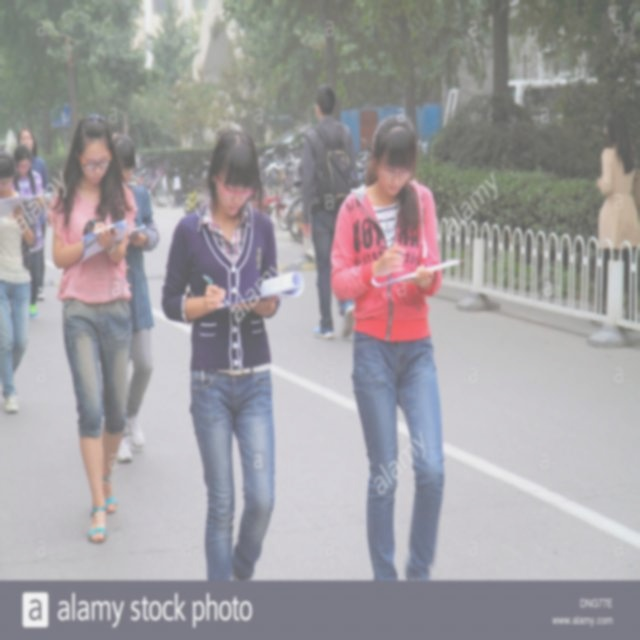pessoa: (160, 126, 306, 582), (328, 108, 446, 580), (44, 109, 141, 548), (110, 130, 160, 466), (299, 83, 362, 341), (0, 150, 37, 414), (10, 142, 50, 320), (595, 108, 639, 250), (15, 124, 49, 302)
